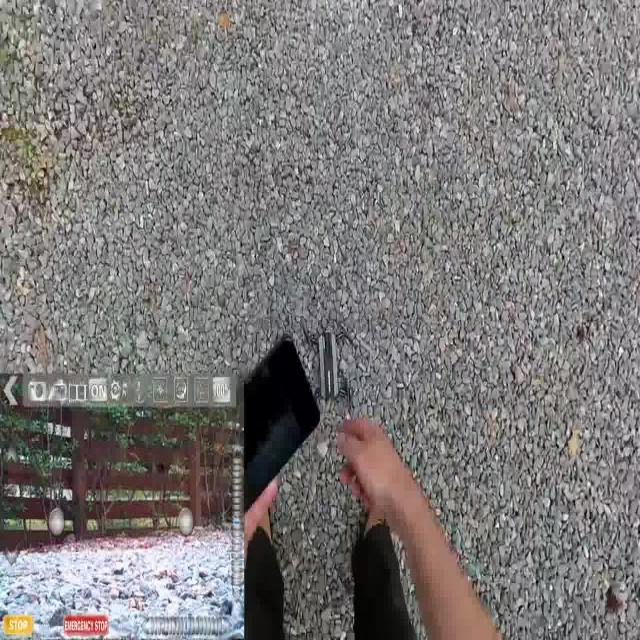Drone_FW: (298, 321, 358, 419)
